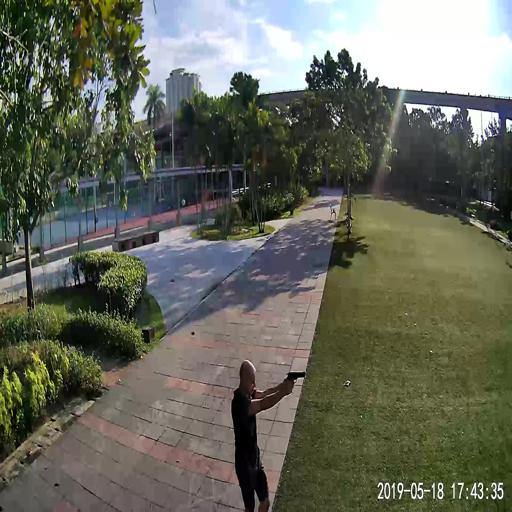pistol: (285, 367, 306, 387)
